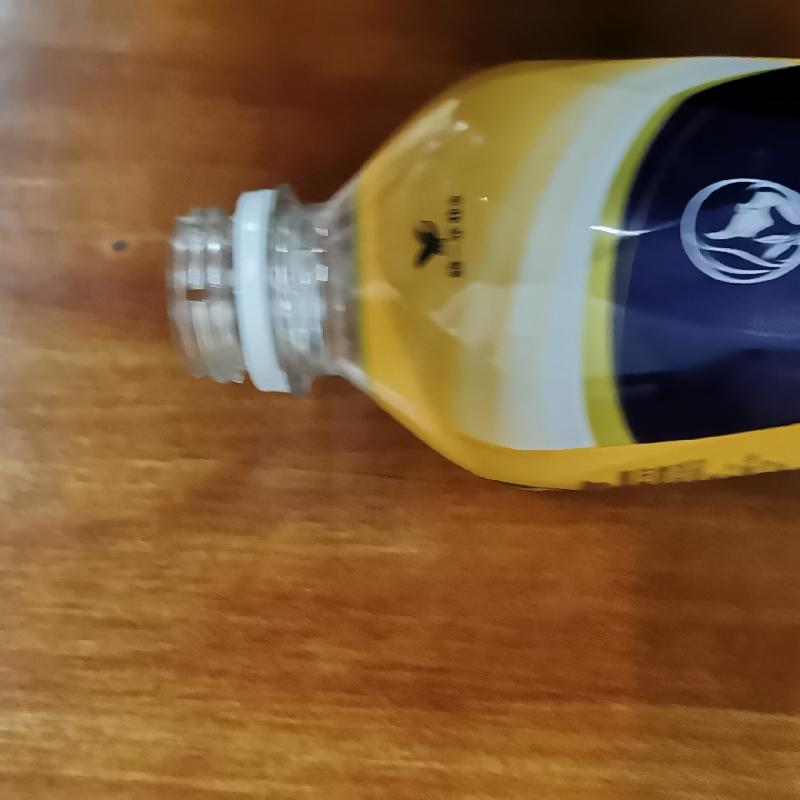bottles: (167, 40, 800, 493)
